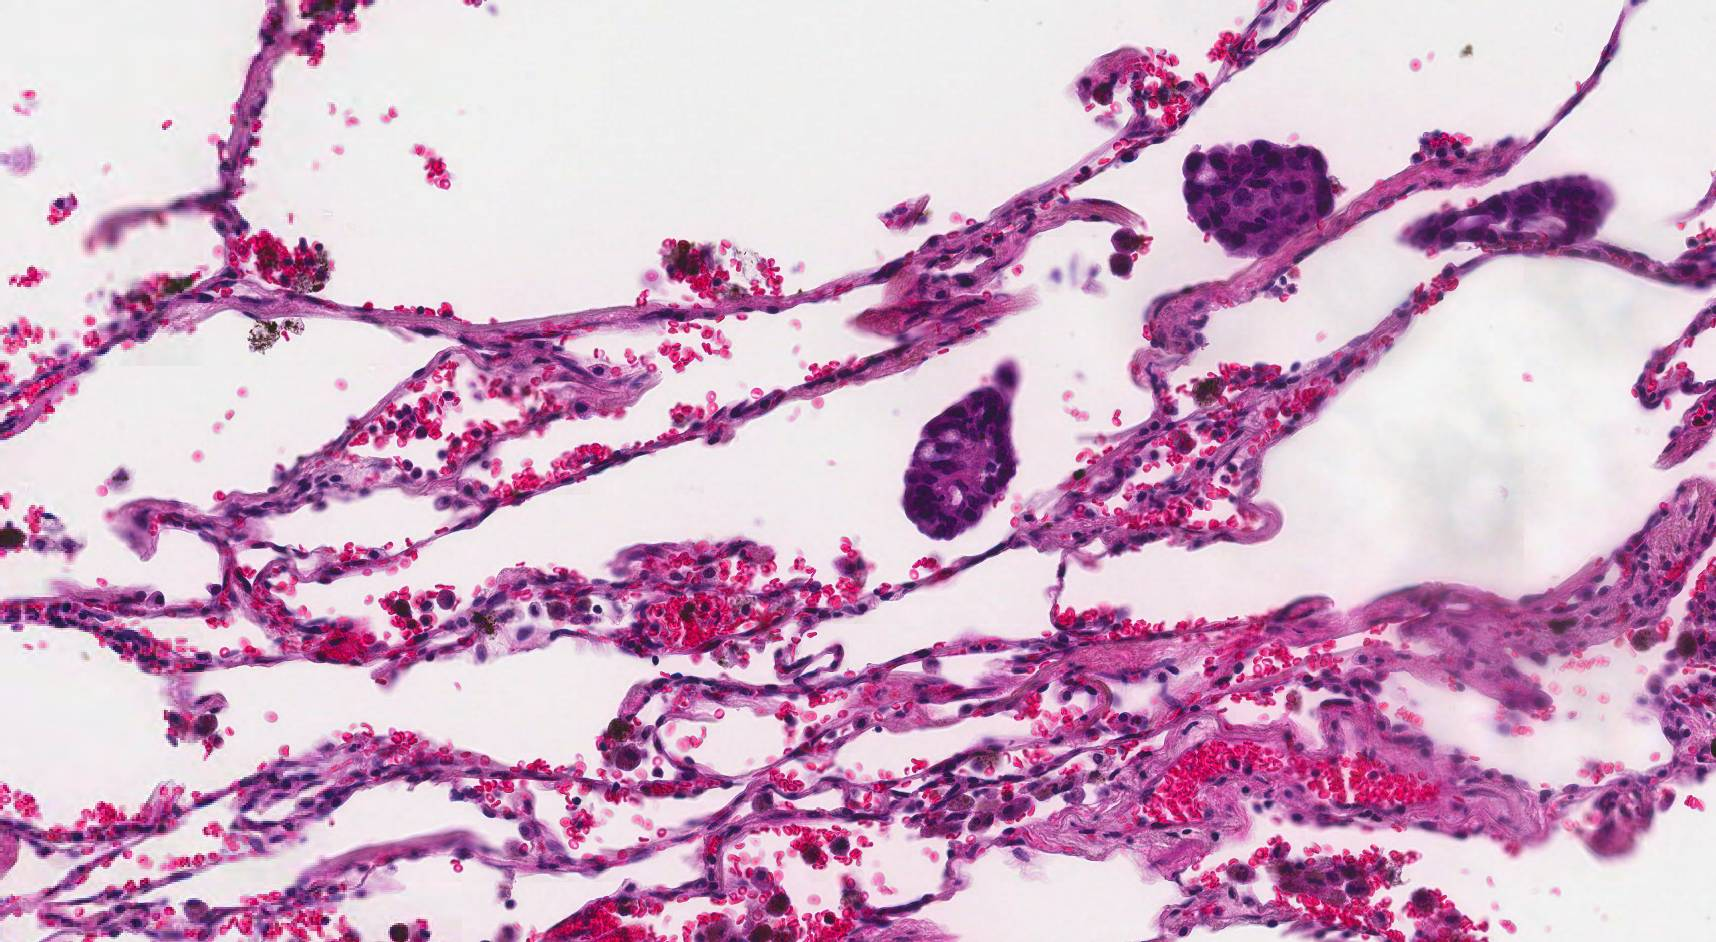stas: (900, 359, 1023, 540), (1178, 141, 1338, 259), (1398, 171, 1619, 251)
